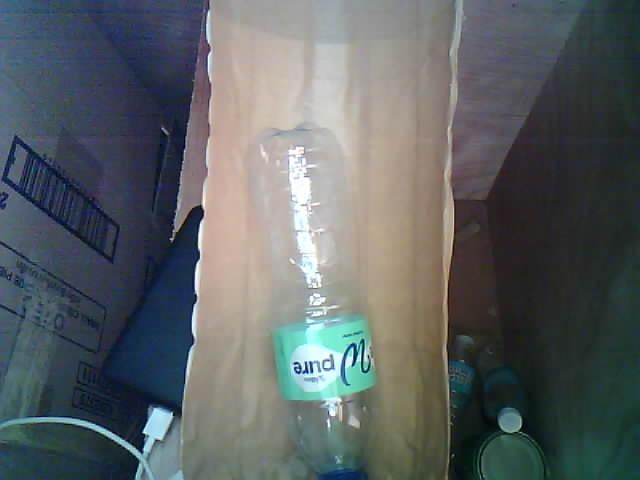small_bottle: (239, 112, 388, 480)
